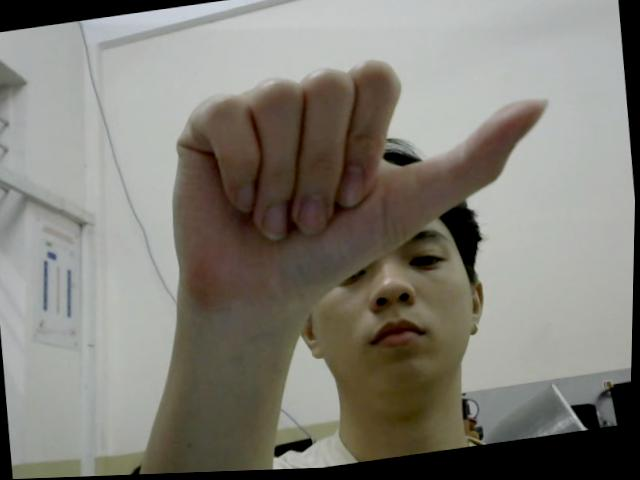A: (153, 37, 564, 311)
